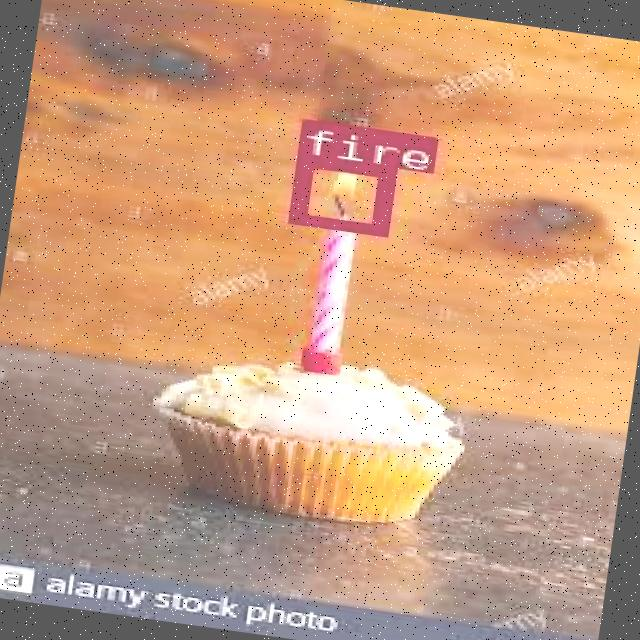fire: (286, 153, 392, 234)
